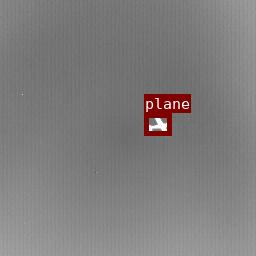plane: (144, 113, 171, 135)
